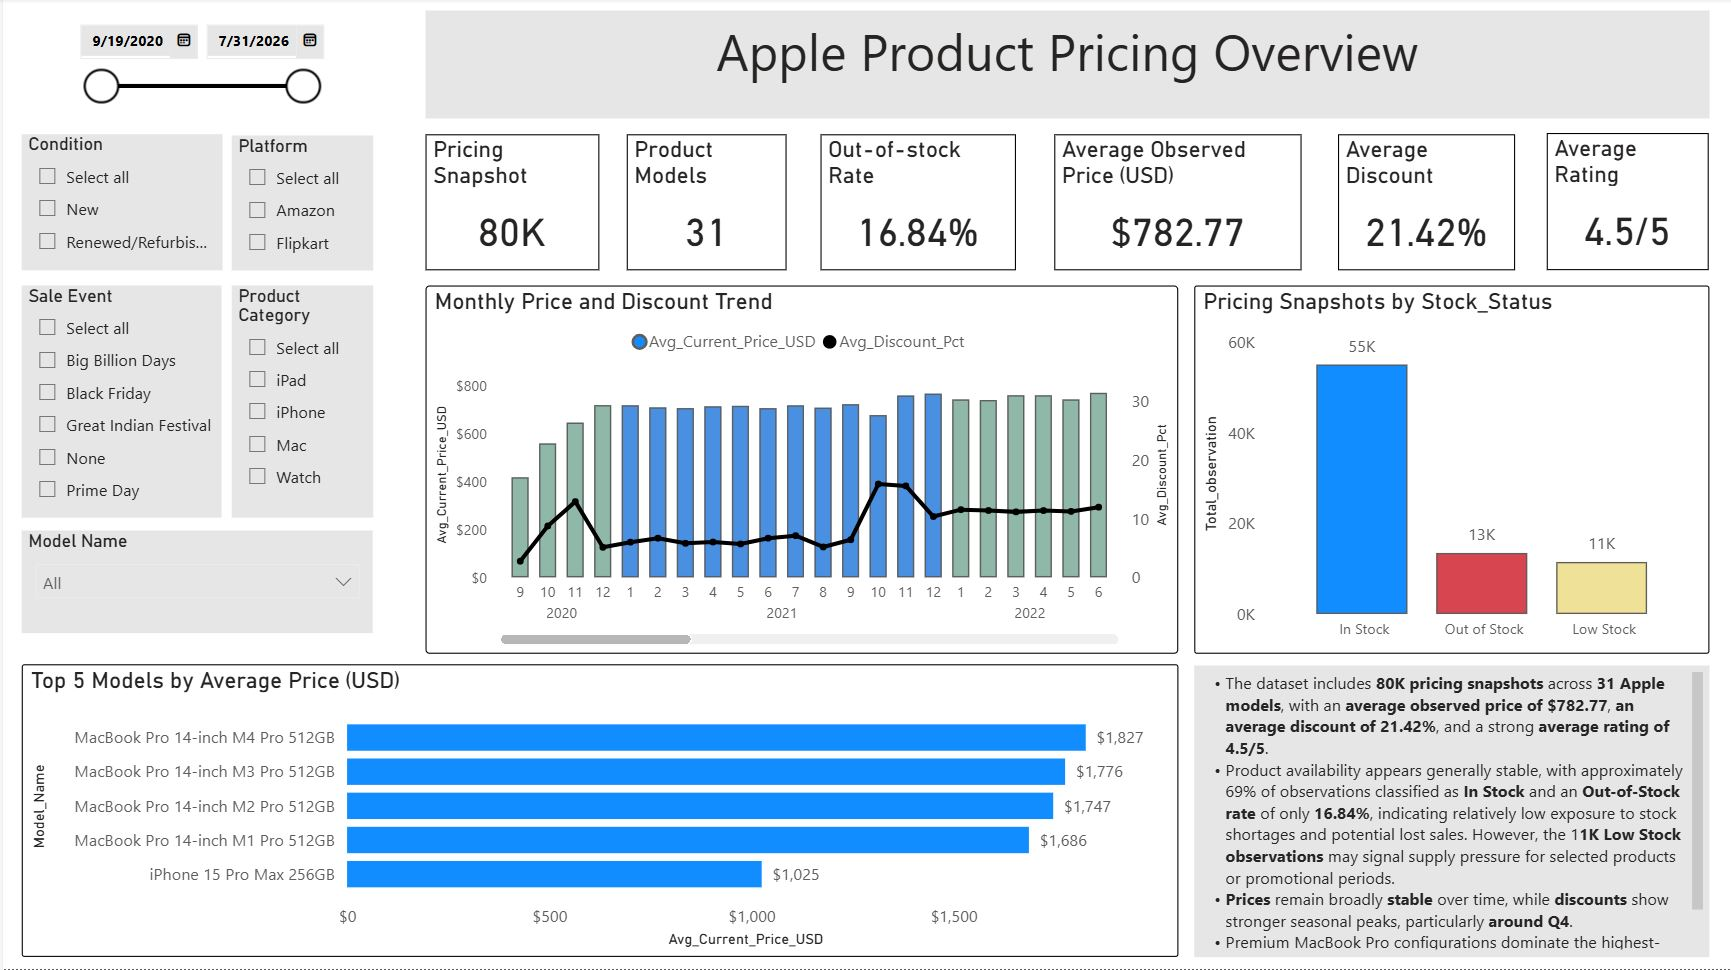

Layout of this report page (visuals, bound fields, positions):
{"tool":"powerbi","page":{"name":"Overview","canvas":[1280,720],"ordinal":0},"visuals":[{"type":"card","title":"Average Observed Price (USD) ","fields":{"Values":["0. Mesure.Avg_Current_Price_USD"]},"box":[778.7,100.9,183.3,100.9],"z":0},{"type":"card","title":"Average Discount","fields":{"Values":["0. Mesure.Avg_Discount_Pct"]},"box":[988.9,100.9,131.5,100.9],"z":1000},{"type":"card","title":"Average Rating ","fields":{"Values":["0. Mesure.Avg_rating"]},"box":[1143.5,100,120.4,101.9],"z":2000},{"type":"card","title":"Product Models","fields":{"Values":["0. Mesure.Total_Model"]},"box":[462,100.9,118.5,100.9],"z":3000},{"type":"card","title":"Pricing Snapshot","fields":{"Values":["0. Mesure.Total_observation"]},"box":[313,100.9,128.7,100.9],"z":4000},{"type":"lineClusteredColumnComboChart","title":"Monthly Price and Discount Trend","fields":{"Y2":["0. Mesure.Avg_Discount_Pct"],"Category":["dim_date.Year","dim_date.Month_Number"],"Y":["0. Mesure.Avg_Current_Price_USD"]},"box":[313,213,557.4,273.2],"z":5000},{"type":"slicer","fields":{"Values":["dim_date.Date_Key"]},"box":[44.4,9.3,199.1,76.9],"z":6000},{"type":"slicer","title":"Product Category","fields":{"Values":["dim_product.Product_Category"]},"box":[169.4,213,104.6,172.2],"z":7000},{"type":"slicer","title":"Platform","fields":{"Values":["dim_platform.Platform_Name"]},"box":[169.4,101.9,104.6,100],"z":8000},{"type":"slicer","title":"Sale Event","fields":{"Values":["dim_sale_event.Sale_Event_Name"]},"box":[13.9,213,148.1,172.2],"z":9000},{"type":"slicer","title":"Condition","fields":{"Values":["dim_condition.Condition_Name"]},"box":[13.9,100.9,149.1,100.9],"z":10000},{"type":"clusteredColumnChart","title":"Pricing Snapshots by Stock_Status","fields":{"Category":["dim_stock_status.Stock_Status_Name"],"Y":["0. Mesure.Total_observation"]},"box":[882.4,213,381.5,273.2],"z":11000},{"type":"card","title":"Out-of-stock Rate","fields":{"Values":["0. Mesure.Out_Of_Stock_Rate"]},"box":[605.6,100.9,144.4,100.9],"z":12000},{"type":"textbox","box":[313,9.3,950.9,79.6],"z":13000},{"type":"clusteredBarChart","title":"Top 5 Models by Average Price (USD)","fields":{"Y":["0. Mesure.Avg_Current_Price_USD"],"Category":["dim_product.Model_Name"]},"box":[13.9,493.5,856.5,216.7],"z":14000},{"type":"slicer","title":"Model Name","fields":{"Values":["dim_product.Model_Name"]},"box":[13.9,394.4,260.2,75.9],"z":15000},{"type":"textbox","box":[882,494,381,217],"z":16000},{"type":"textbox","box":[882.4,494.4,381.5,215.7],"z":17000}]}

Visuals, with their boxes in screenshot pixels (x1, y1, x2, y2), scaled from the page's 1280x720 canvas onto the 1731x970 screenshot:
"Average Observed Price (USD) " card: 1053:136:1301:272
"Average Discount" card: 1337:136:1515:272
"Average Rating " card: 1546:135:1709:272
"Product Models" card: 625:136:785:272
"Pricing Snapshot" card: 423:136:597:272
"Monthly Price and Discount Trend" lineClusteredColumnComboChart: 423:287:1177:655
slicer - dim_date.Date_Key: 60:13:329:116
"Product Category" slicer: 229:287:371:519
"Platform" slicer: 229:137:371:272
"Sale Event" slicer: 19:287:219:519
"Condition" slicer: 19:136:220:272
"Pricing Snapshots by Stock_Status" clusteredColumnChart: 1193:287:1709:655
"Out-of-stock Rate" card: 819:136:1014:272
textbox: 423:13:1709:120
"Top 5 Models by Average Price (USD)" clusteredBarChart: 19:665:1177:957
"Model Name" slicer: 19:531:371:634
textbox: 1193:666:1708:958
textbox: 1193:666:1709:957
